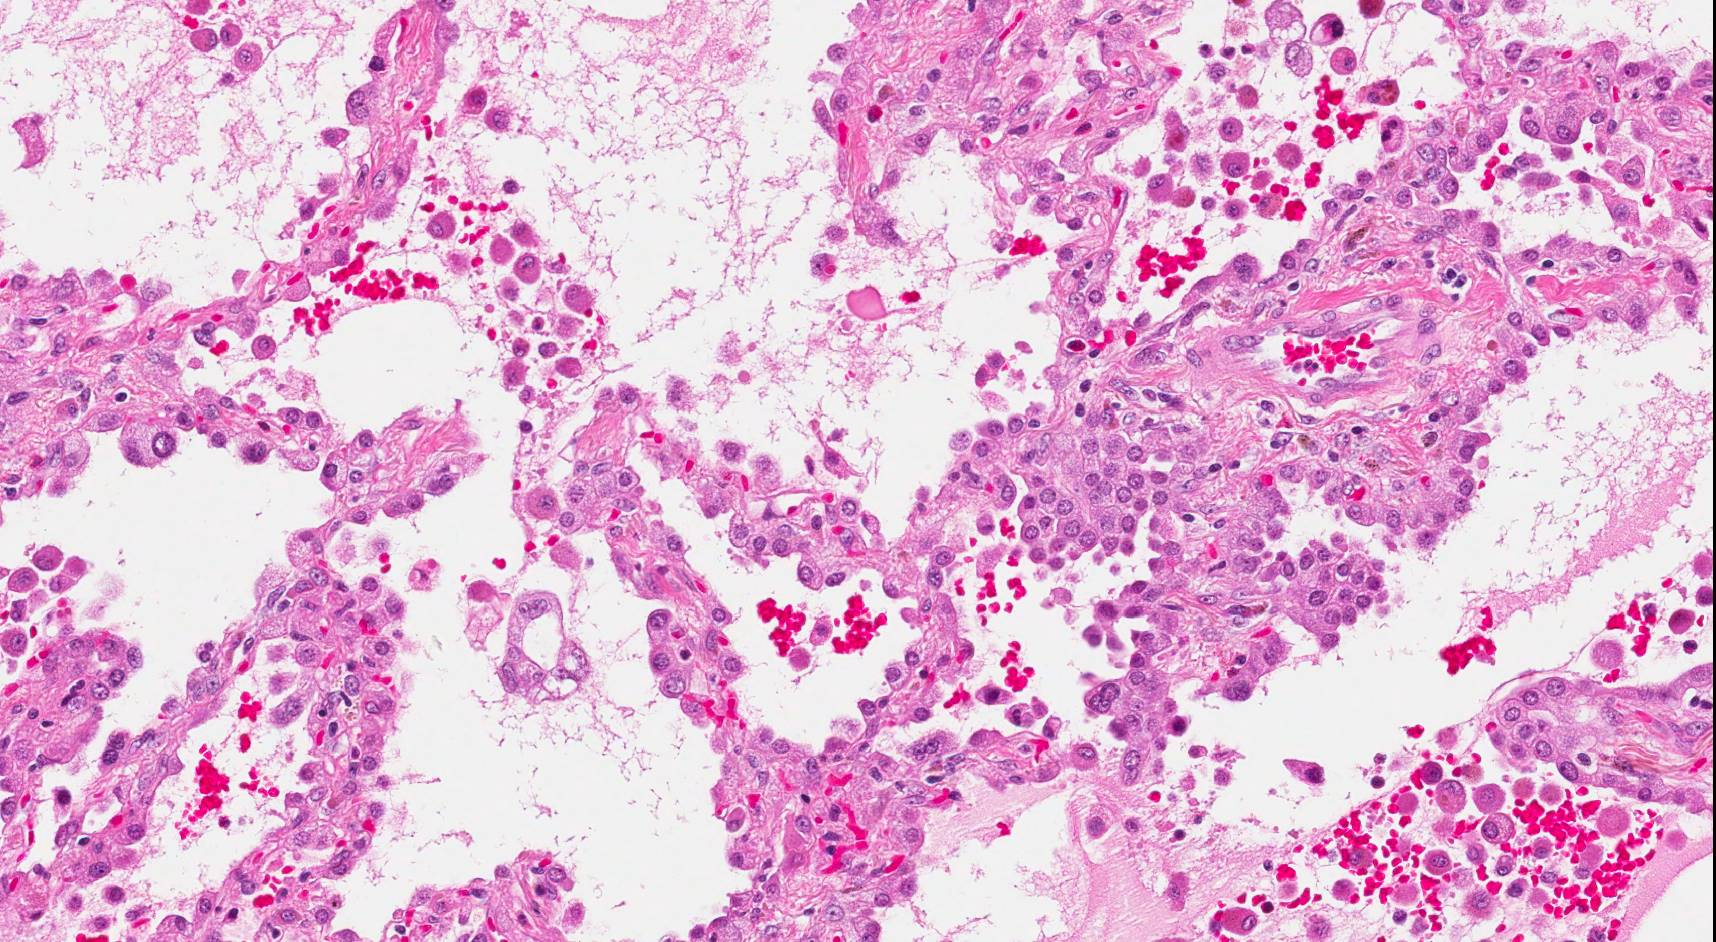stas: (497, 591, 593, 707)
